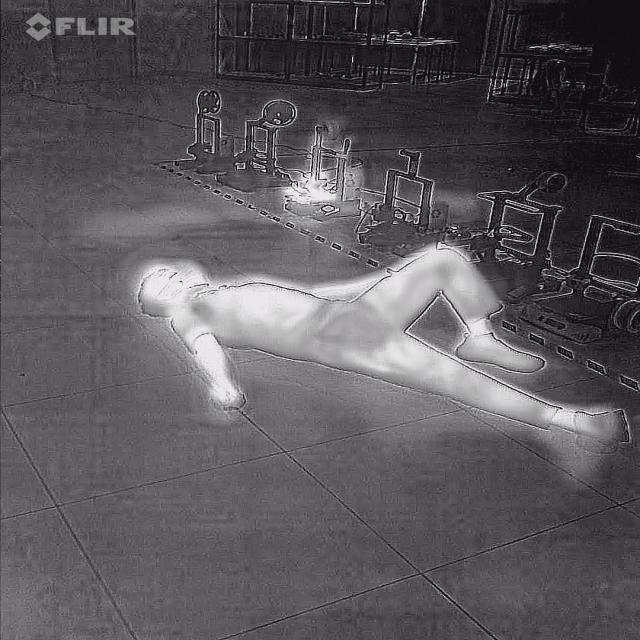Victim: (136, 238, 634, 456)
